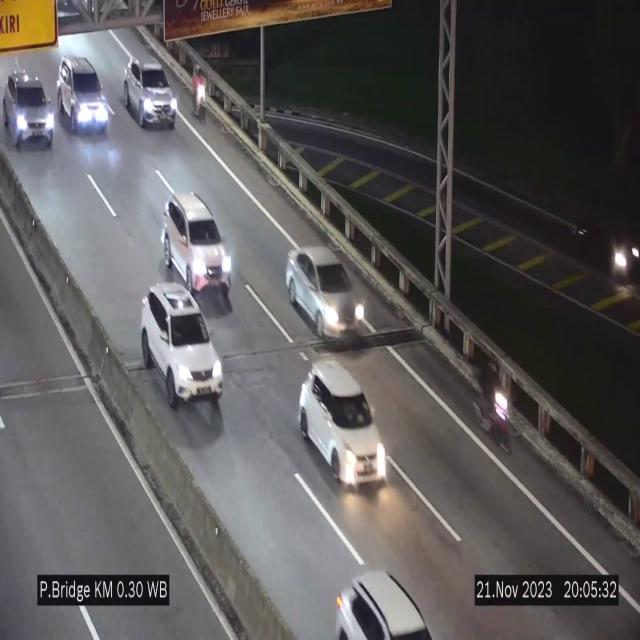Car: (299, 359, 387, 485), (140, 282, 224, 405), (325, 555, 438, 640), (286, 247, 362, 338), (162, 193, 228, 293), (124, 56, 178, 128), (4, 72, 54, 148), (58, 61, 110, 132)
Motorcycle: (474, 354, 514, 468), (192, 59, 214, 132)
